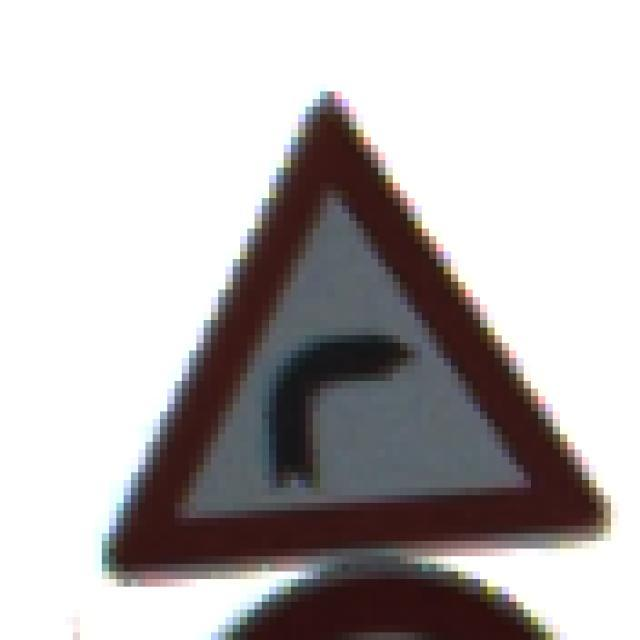right hand curve: (110, 84, 616, 593)
